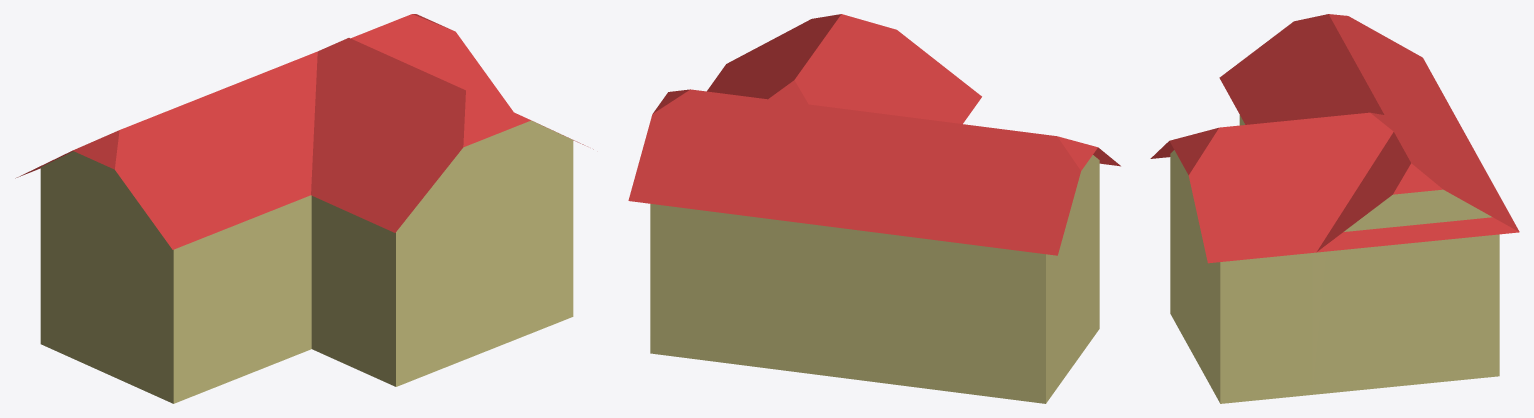
3 views of the same model, side by side, from view 1: azimuth 30°, elevation 25°; view 2: azimuth 150°, elevation 25°; view 3: azimuth 270°, elevation 25° (orthographic). The views are drawn at different scales.
Bounding box in the file's own units: 21.75 × 16.53 × 11.28.
